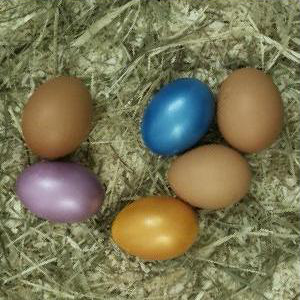egg: (110, 198, 200, 262), (218, 68, 284, 154), (22, 78, 92, 158), (142, 81, 215, 156), (167, 145, 251, 210), (16, 162, 104, 222), (142, 82, 149, 84)
